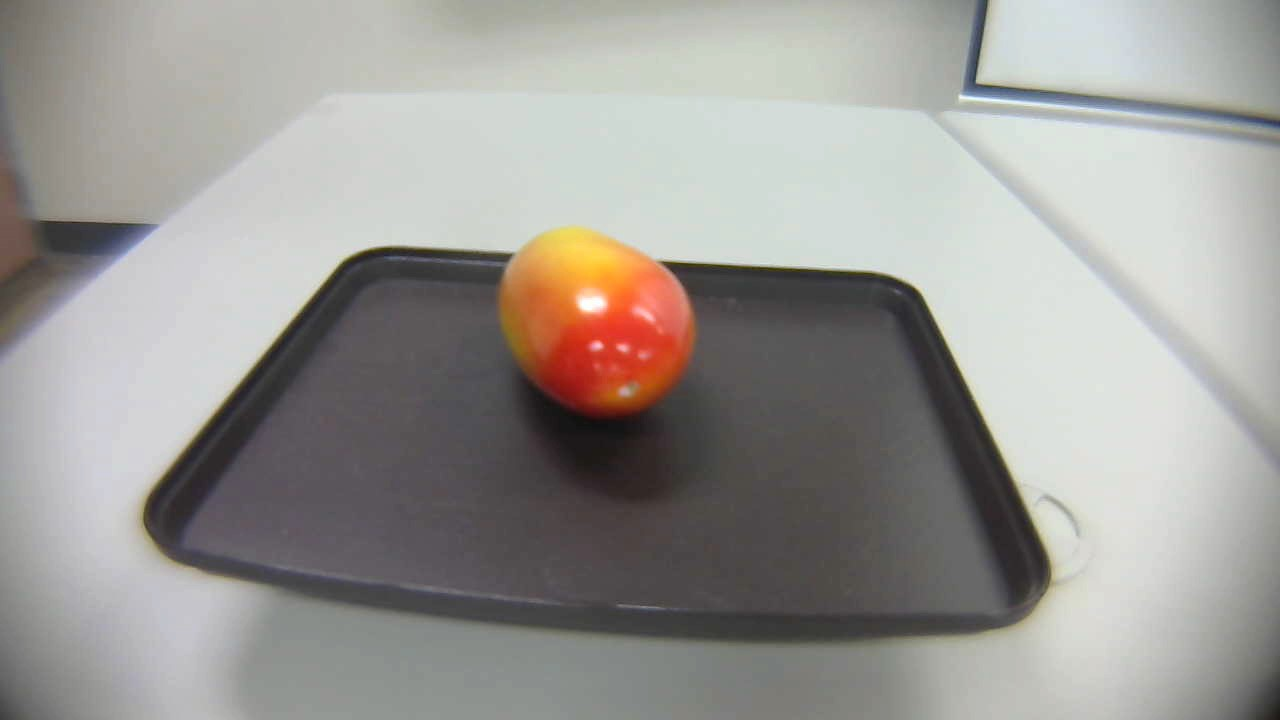red mango: (475, 222, 725, 437)
